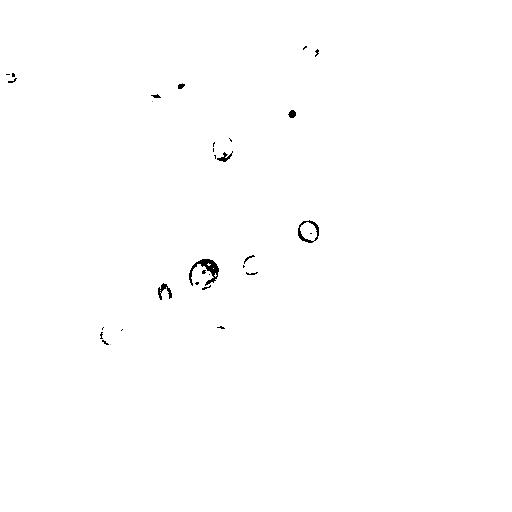micro-algae: (35, 51, 86, 102), (188, 257, 222, 291), (486, 359, 512, 403), (278, 95, 307, 126), (76, 270, 105, 301), (212, 133, 235, 164), (98, 320, 125, 346), (241, 252, 266, 276), (297, 219, 321, 244), (299, 42, 322, 62), (156, 280, 173, 306), (174, 77, 190, 92), (1, 70, 17, 84)
